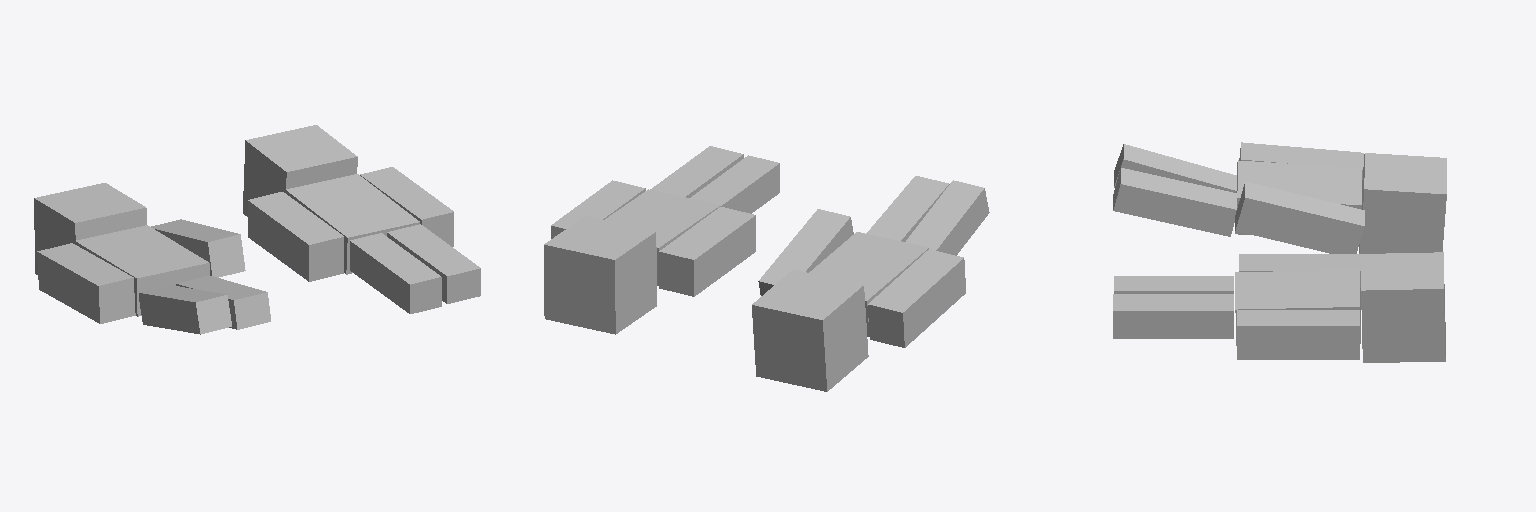
Rendered from steve_000030.obj.
3 renders of one model, left to right at view 1: azimuth 30°, elevation 25°; view 2: azimuth 150°, elevation 25°; view 3: azimuth 270°, elevation 25°, orthographic.
Visible parts, largest first — view 1: Cube.001_Cube.002, Cube_Cube.001; view 2: Cube_Cube.001, Cube.001_Cube.002; view 3: Cube.001_Cube.002, Cube_Cube.001.
Part boxes in pixels (left/top/right/bottom): Cube.001_Cube.002: left=243, top=125, right=480, bottom=313; Cube_Cube.001: left=34, top=183, right=270, bottom=334; Cube_Cube.001: left=752, top=176, right=989, bottom=391; Cube.001_Cube.002: left=544, top=146, right=779, bottom=334; Cube.001_Cube.002: left=1113, top=252, right=1445, bottom=362; Cube_Cube.001: left=1113, top=142, right=1446, bottom=253.
Bounding box in the file's own units: 6.55 × 1.58 × 5.36.